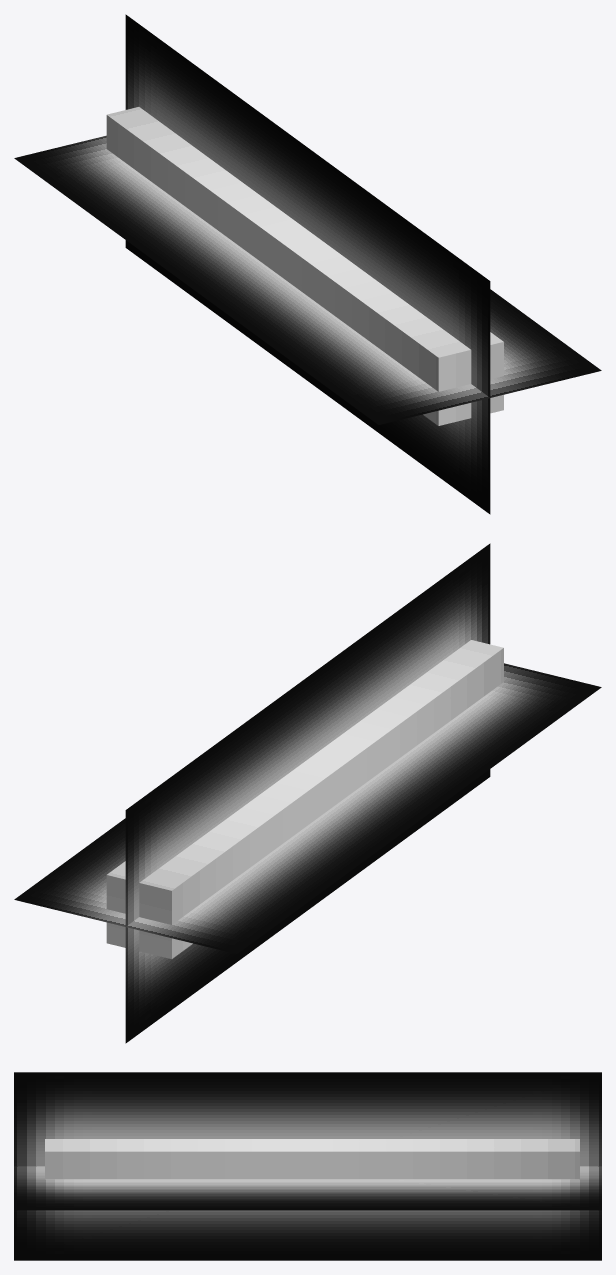
File: box_light.fbx
3 views of the same model, one above another, from view 1: azimuth 30°, elevation 25°; view 2: azimuth 150°, elevation 25°; view 3: azimuth 270°, elevation 25° (orthographic). The views are drawn at different scales.
Parts seen in each view (by area): view 1: box_light; view 2: box_light; view 3: box_light.
Part boxes in pixels (box(x1,y1,x2,y2)): box_light: box(14, 14, 601, 514); box_light: box(14, 543, 601, 1043); box_light: box(14, 1072, 601, 1260).
Size of the model in its own units: 0.388 by 0.388 by 1.1.
